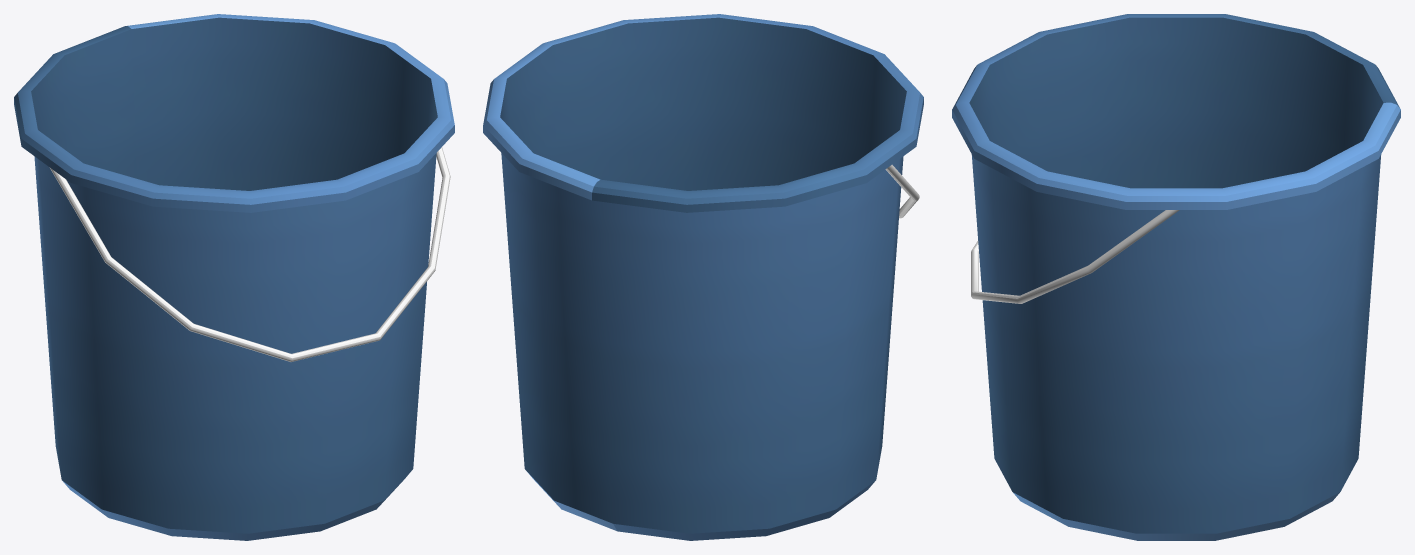
The model's file is PlasticBucket.fbx.
The picture shows the model from 3 angles, left to right: view 1: azimuth 30°, elevation 25°; view 2: azimuth 150°, elevation 25°; view 3: azimuth 270°, elevation 25°; orthographic projection.
Parts seen in each view (by area): view 1: Circle.001; view 2: Circle.001; view 3: Circle.001.
Boxes of the visible parts, x1,y1,x2,y2 form: Circle.001: [14, 14, 454, 540]; Circle.001: [483, 14, 923, 540]; Circle.001: [952, 14, 1400, 540].
Size of the model in its own units: 0.3513 by 0.325 by 0.3603.
